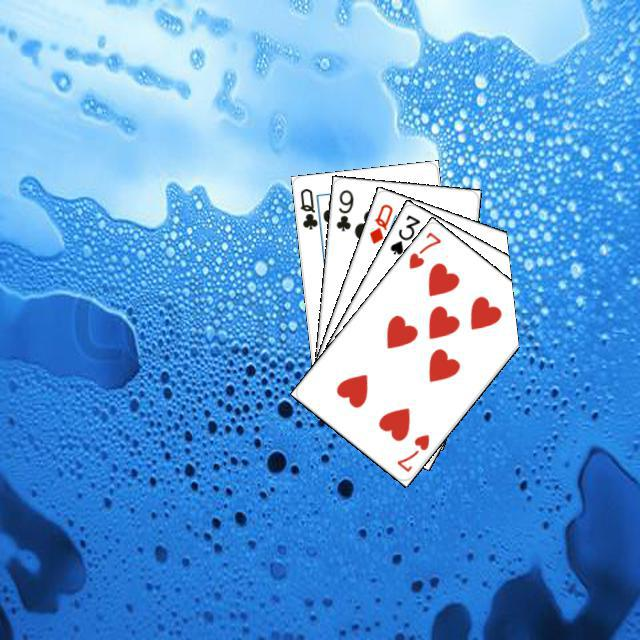3s: (385, 210, 422, 257)
7h: (404, 226, 443, 271), (392, 429, 431, 474)
9c: (331, 185, 355, 233)
Qc: (295, 183, 323, 234)
Qd: (364, 199, 394, 245)
